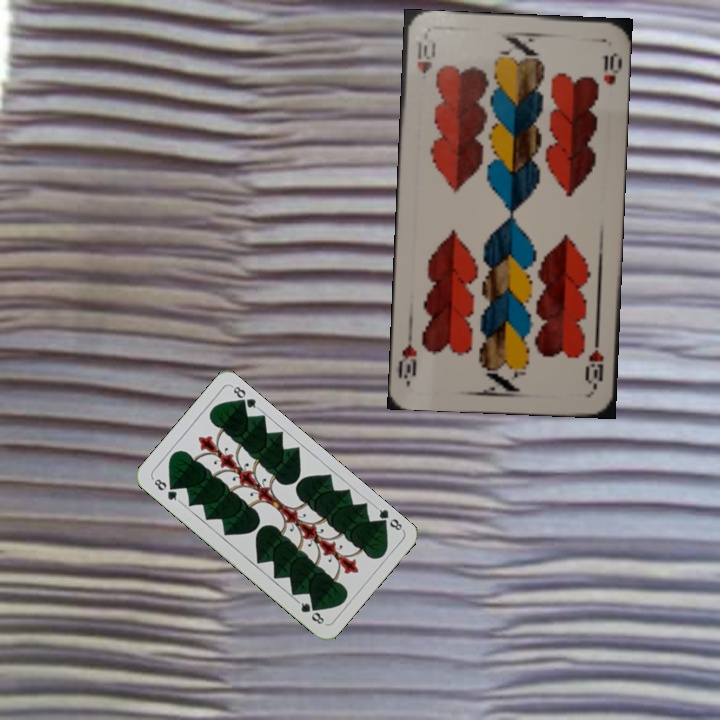G8: (149, 474, 183, 504), (372, 503, 406, 533)
H10: (581, 332, 606, 391), (413, 37, 437, 77)
